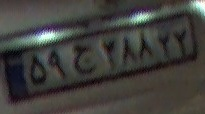character: (70, 43, 99, 79), (27, 53, 48, 92), (47, 48, 69, 85), (118, 33, 138, 71), (98, 37, 118, 74), (138, 29, 157, 67), (173, 23, 190, 57), (156, 25, 172, 61)
